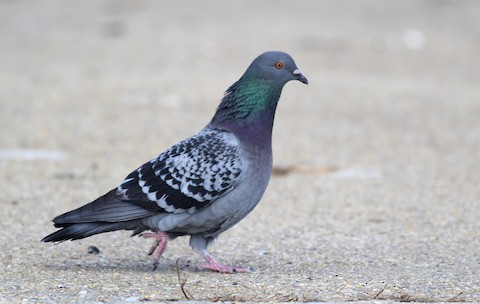pigeon: (37, 47, 324, 275)
